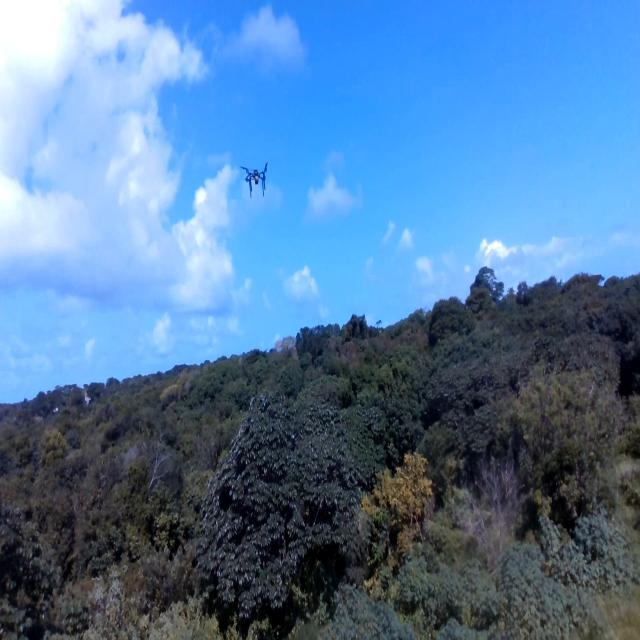-uav-: (236, 153, 275, 202)
